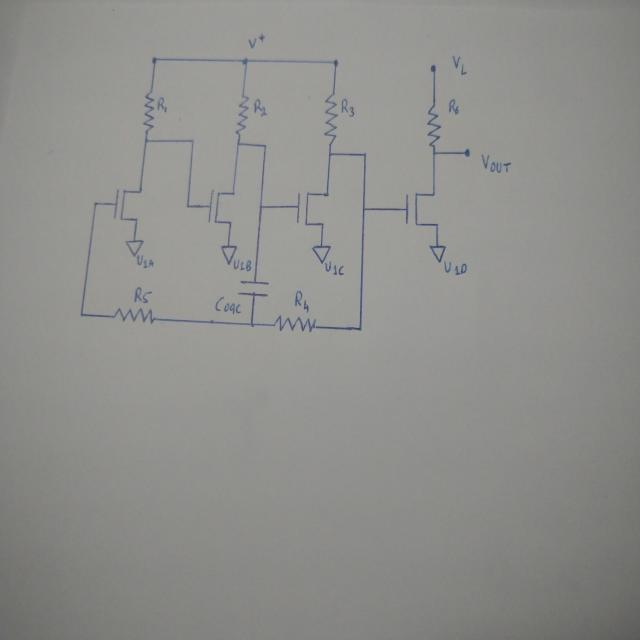capacitor: (237, 277, 269, 299)
ground: (310, 243, 332, 264), (219, 243, 237, 266), (428, 242, 446, 264), (125, 238, 144, 258)
junction: (241, 55, 251, 67), (331, 56, 341, 68), (150, 54, 160, 65), (258, 200, 266, 212), (185, 201, 193, 211), (326, 149, 334, 158), (142, 136, 149, 146), (92, 198, 99, 208), (248, 320, 255, 330), (356, 323, 363, 333), (360, 149, 367, 159), (188, 137, 196, 145), (360, 204, 367, 212), (236, 140, 243, 148), (262, 142, 268, 150), (79, 310, 85, 318), (431, 150, 437, 156)
resistor: (111, 306, 162, 327), (322, 92, 340, 148), (272, 314, 316, 336), (426, 103, 442, 150), (234, 93, 249, 138), (141, 90, 156, 134)
terminal: (462, 146, 472, 159), (427, 62, 437, 75)
text: (480, 152, 511, 174), (215, 296, 241, 316), (451, 52, 470, 76), (294, 289, 312, 314), (132, 284, 153, 305), (246, 31, 265, 50), (442, 261, 466, 276), (136, 253, 157, 270), (253, 97, 270, 118), (340, 97, 356, 119), (232, 257, 253, 273), (324, 261, 344, 277), (447, 97, 459, 116), (156, 95, 168, 113)
transistor: (402, 189, 441, 229), (294, 189, 332, 228), (205, 188, 238, 227), (112, 186, 146, 223)
